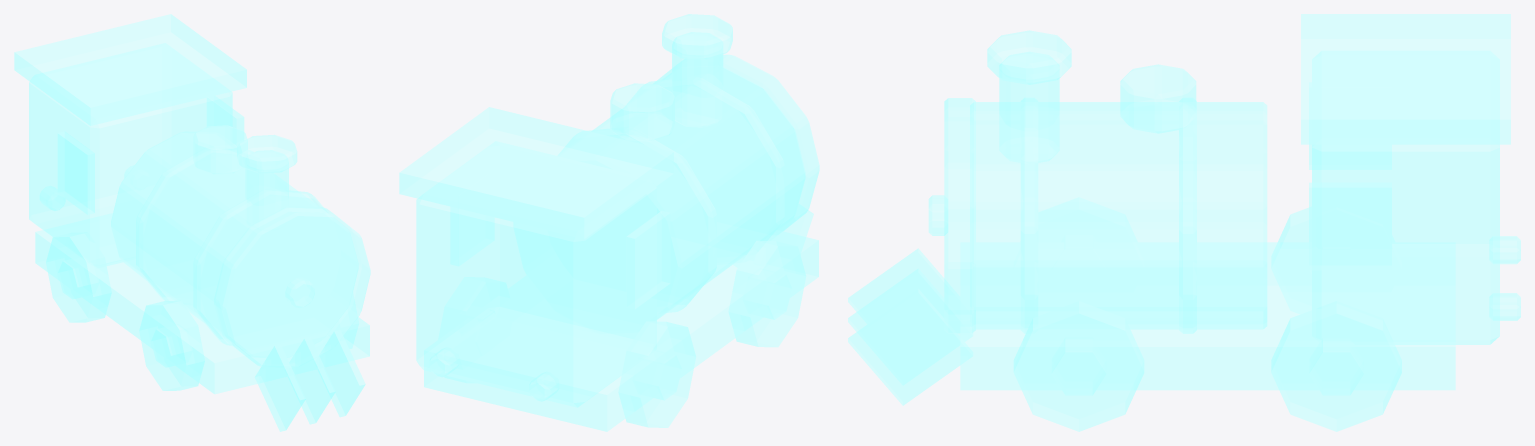
Rendered from GH_Vehicle_TrainEngine.fbx.
3 renders of one model, left to right at view 1: azimuth 30°, elevation 25°; view 2: azimuth 150°, elevation 25°; view 3: azimuth 270°, elevation 25°, orthographic. The views are drawn at different scales.
Visible parts, largest first — view 1: SM_Vehicle_TrainEngine; view 2: SM_Vehicle_TrainEngine; view 3: SM_Vehicle_TrainEngine.
Part boxes in pixels (x1=…): SM_Vehicle_TrainEngine: x1=14, y1=14, x2=370, y2=431; SM_Vehicle_TrainEngine: x1=399, y1=14, x2=819, y2=431; SM_Vehicle_TrainEngine: x1=848, y1=14, x2=1520, y2=431.
Bounding box in the file's own units: 1.42 × 1.88 × 3.4.
